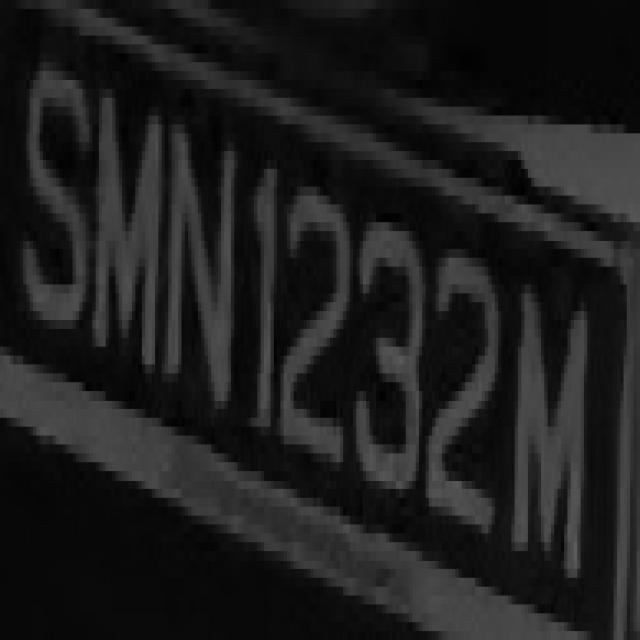1: (241, 115, 284, 498)
2: (429, 178, 505, 578), (287, 134, 353, 516)
3: (346, 169, 429, 569)
M: (508, 222, 584, 596), (89, 62, 165, 391)
N: (168, 62, 238, 471)
S: (27, 18, 92, 356)
